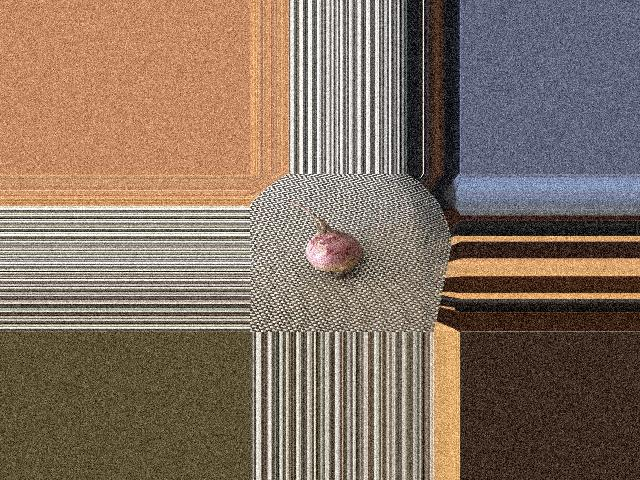beet: (280, 200, 363, 280)
